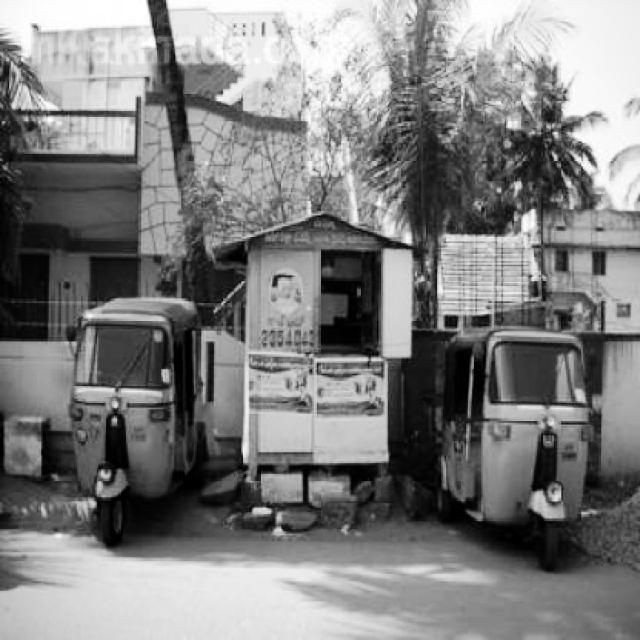Auto-Rickshaw: (436, 326, 590, 578), (66, 293, 206, 542)
